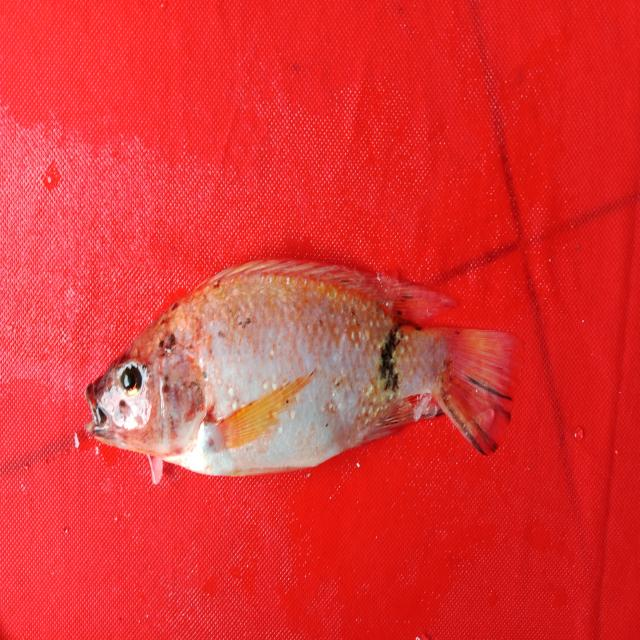ikan: (84, 256, 518, 486)
